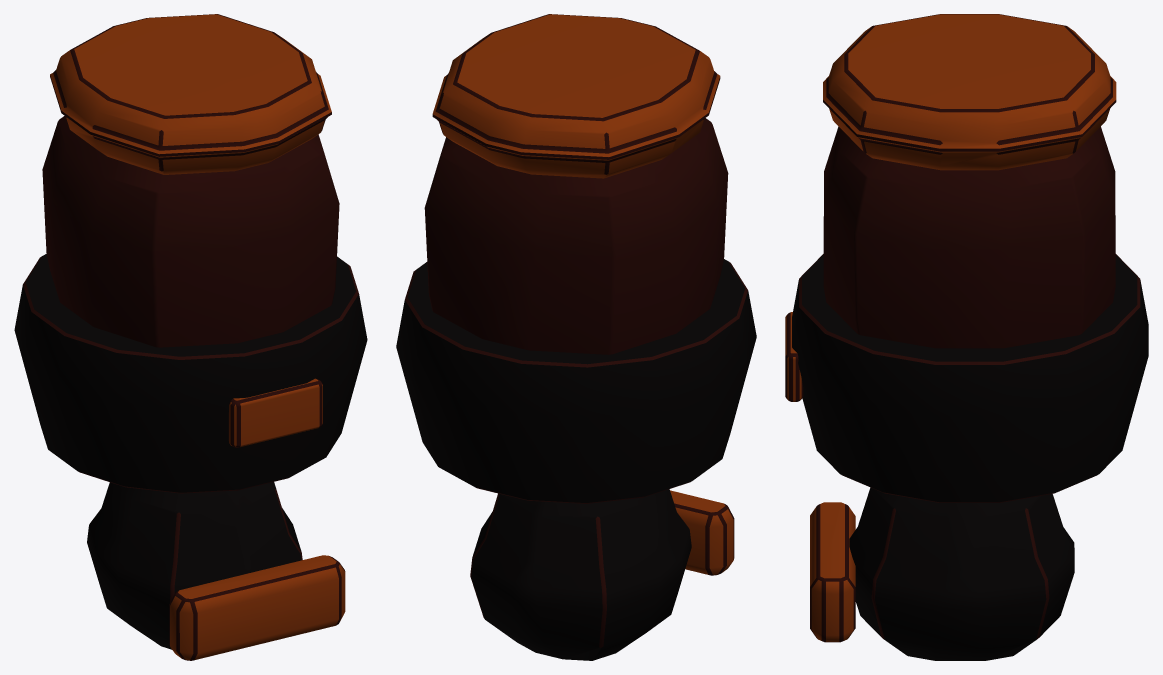
The model's file is Igneo_LuvaL.fbx.
3 views of the same model, side by side, from view 1: azimuth 30°, elevation 25°; view 2: azimuth 150°, elevation 25°; view 3: azimuth 270°, elevation 25° (orthographic). The views are drawn at different scales.
Visible parts, largest first — view 1: Piece; view 2: Piece; view 3: Piece.
Part boxes in pixels (x1,y1,x2,y2): Piece: (14,14,367,660); Piece: (396,14,756,660); Piece: (785,14,1148,660).
Size of the model in its own units: 0.1962 by 0.3488 by 0.1991.
